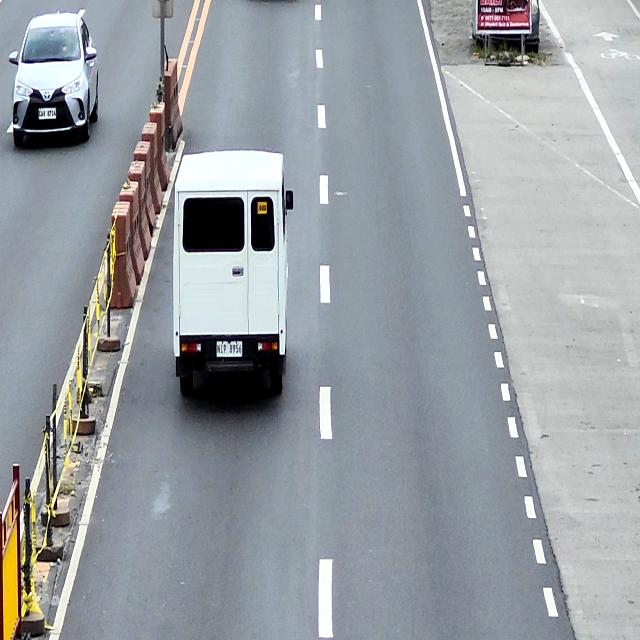Car: (172, 148, 294, 400), (8, 12, 98, 148)
License-Plate: (216, 341, 243, 357), (38, 107, 56, 120)
